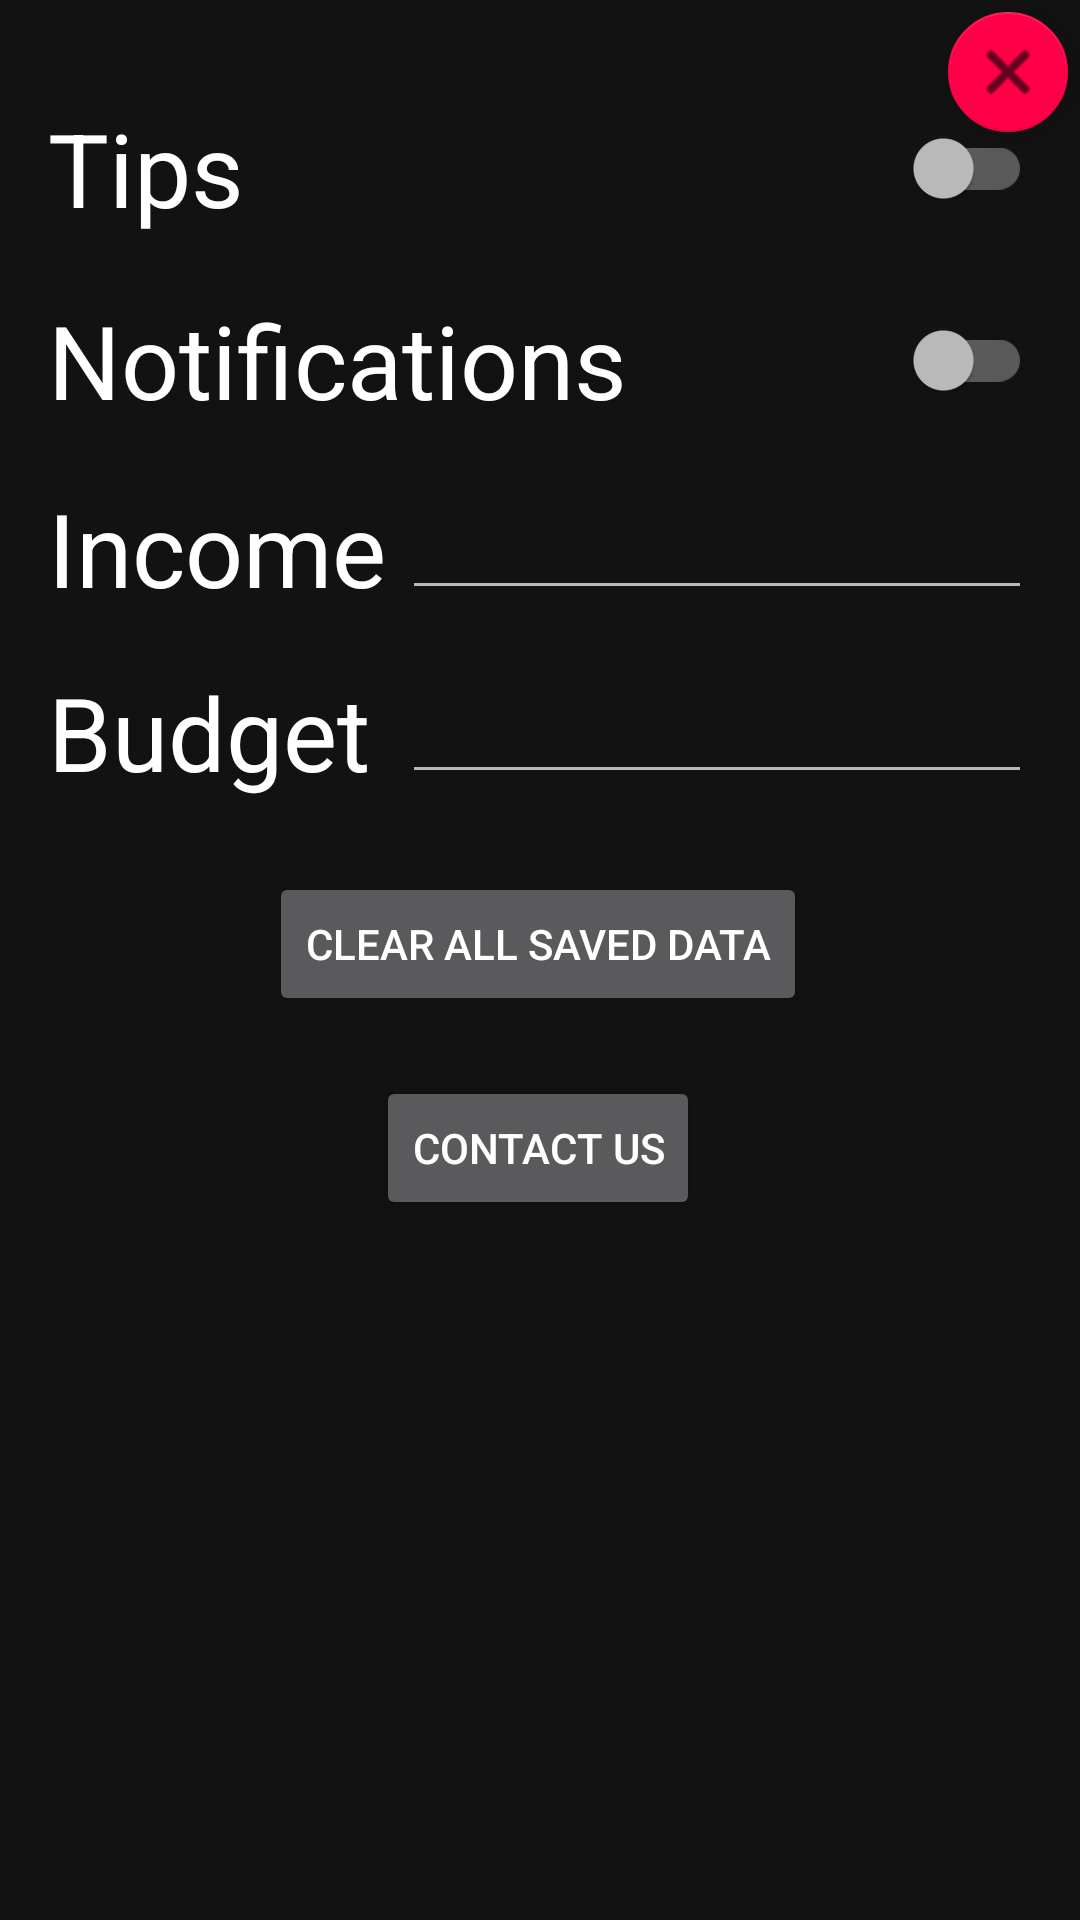

Icons on this 1080px x 1920px Android screen, each with the point to tap as point (x, y):
close clear cancel: point (1008, 72)
